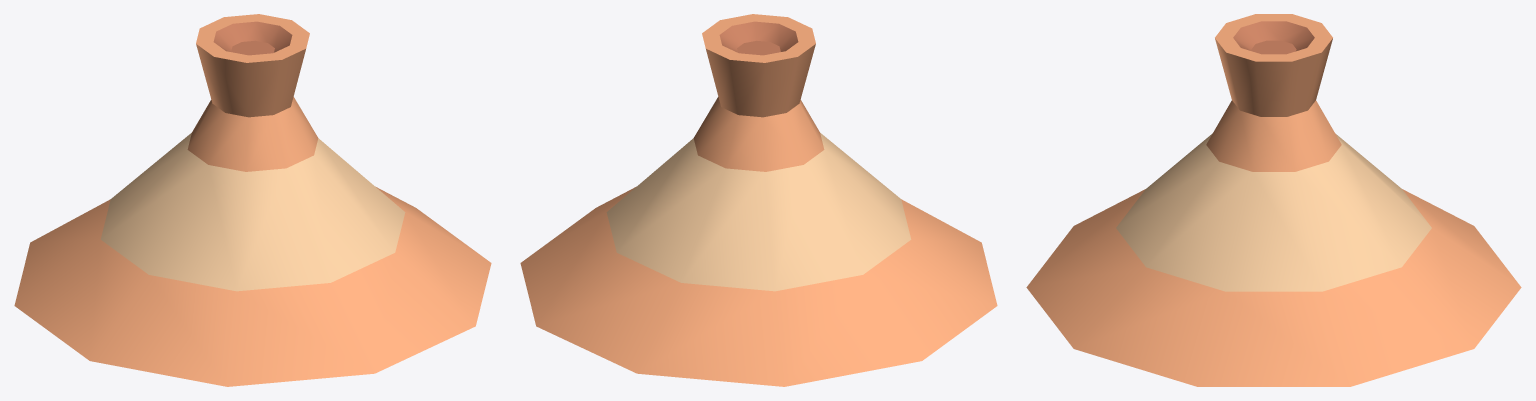
Rendered from tajineLid.GLB.
3 views of the same model, side by side, from view 1: azimuth 30°, elevation 25°; view 2: azimuth 150°, elevation 25°; view 3: azimuth 270°, elevation 25° (orthographic).
Visible parts, largest first — view 1: tajineLid; view 2: tajineLid; view 3: tajineLid.
Boxes of the visible parts, x1=… form: tajineLid: x1=14, y1=14, x2=491, y2=386; tajineLid: x1=520, y1=14, x2=997, y2=386; tajineLid: x1=1026, y1=14, x2=1521, y2=386.
Size of the model in its own units: 0.7555 by 0.442 by 0.7943.
